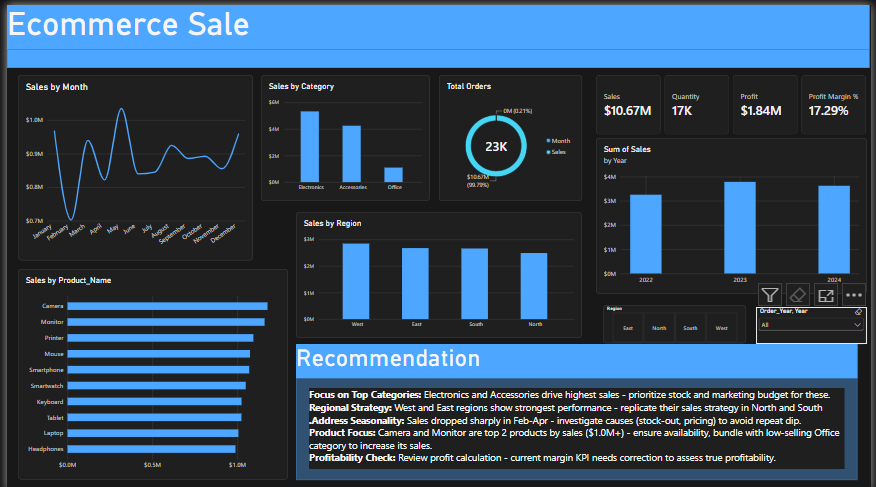

This screenshot's page, from the dashboard's own definition file:
{"tool":"powerbi","page":{"name":"Page 1","canvas":[1920,1080],"ordinal":0},"visuals":[{"type":"clusteredBarChart","title":"Sales by Product_Name","fields":{"Category":["ecommerce_Clean_Data_10m.Product_Name"],"Y":["Sum(ecommerce_Clean_Data_10m.Sales)"]},"box":[25,587.5,600,467.5],"z":0},{"type":"clusteredColumnChart","title":"Sales by Region","fields":{"Category":["ecommerce_Clean_Data_10m.Region"],"Y":["Sum(ecommerce_Clean_Data_10m.Sales)"]},"box":[642.5,460,635,280],"z":1000},{"type":"clusteredColumnChart","fields":{"Category":["ecommerce_Clean_Data_10m.Yr_Month.Variation.Date Hierarchy.Year"],"Y":["Sum(ecommerce_Clean_Data_10m.Sales)"]},"box":[1308,296,602,346],"z":2000},{"type":"clusteredColumnChart","title":"Sales by Category","fields":{"Category":["ecommerce_Clean_Data_10m.Category"],"Y":["Sum(ecommerce_Clean_Data_10m.Sales)"]},"box":[565,155,375,280],"z":3000},{"type":"shape","title":"Ecommerce Sale","box":[0,0,1916.7,140],"z":4000},{"type":"slicer","fields":{"Values":["ecommerce_Clean_Data_10m.Region"]},"box":[1325,667.5,317.5,85],"z":5000},{"type":"donutChart","title":"Total Orders","fields":{"Y":["Sum(ecommerce_Clean_Data_10m.Order_Month)","Sum(ecommerce_Clean_Data_10m.Sales)"]},"box":[960,156,318,280],"z":6000},{"type":"slicer","fields":{"Values":["ecommerce_Clean_Data_10m.Order_Year","ecommerce_Clean_Data_10m.Yr_Month.Variation.Date Hierarchy.Year"]},"box":[1665,670,245,82.5],"z":7000},{"type":"lineChart","title":"Sales by Month","fields":{"Category":["ecommerce_Clean_Data_10m.Yr_Month.Variation.Date Hierarchy.Month"],"Y":["Sum(ecommerce_Clean_Data_10m.Sales)"]},"box":[25,155,522,412],"z":8000},{"type":"shape","title":"Recommendation","box":[642.5,752.5,1247.5,302.5],"z":9000},{"type":"cardVisual","fields":{"Data":["Sum(ecommerce_Clean_Data_10m.Sales)","Sum(ecommerce_Clean_Data_10m.Quantity)","Sum(ecommerce_Clean_Data_10m.Profit)","ecommerce_Clean_Data_10m.Profit Margin %"]},"box":[1308,156,600,132],"z":10000},{"type":"textbox","box":[670,850,1190,180],"z":11000}]}

Visuals, with their boxes in screenshot pixels (x1, y1, x2, y2), scaled from the page's 1920x1080 canvas onto the 876x487 screenshot:
"Sales by Product_Name" clusteredBarChart: box=[11, 265, 285, 476]
"Sales by Region" clusteredColumnChart: box=[293, 207, 583, 334]
clusteredColumnChart - ecommerce_Clean_Data_10m.Yr_Month.Variation.Date Hierarchy.Year x Sum(ecommerce_Clean_Data_10m.Sales): box=[597, 133, 871, 289]
"Sales by Category" clusteredColumnChart: box=[258, 70, 429, 196]
"Ecommerce Sale" shape: box=[0, 0, 874, 63]
slicer - ecommerce_Clean_Data_10m.Region: box=[605, 301, 749, 339]
"Total Orders" donutChart: box=[438, 70, 583, 197]
slicer - ecommerce_Clean_Data_10m.Order_Year x ecommerce_Clean_Data_10m.Yr_Month.Variation.Date Hierarchy.Year: box=[760, 302, 871, 339]
"Sales by Month" lineChart: box=[11, 70, 250, 256]
"Recommendation" shape: box=[293, 339, 862, 476]
cardVisual - Sum(ecommerce_Clean_Data_10m.Sales) x Sum(ecommerce_Clean_Data_10m.Quantity): box=[597, 70, 871, 130]
textbox: box=[306, 383, 849, 464]
